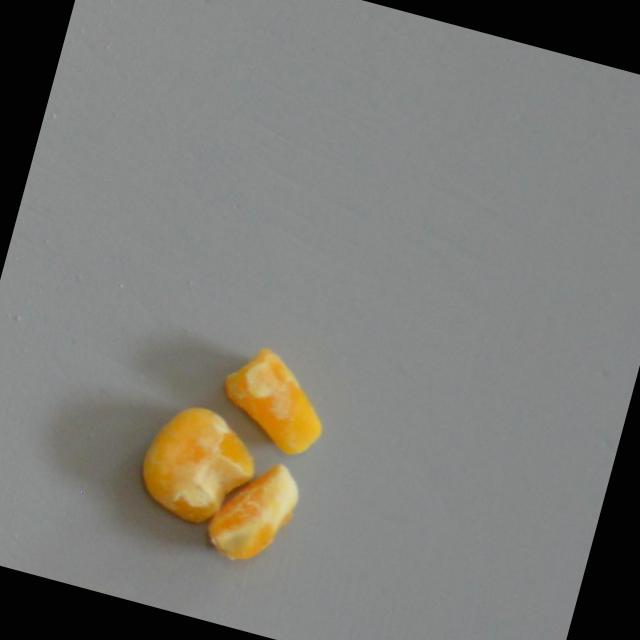pelicula: (126, 393, 267, 532), (209, 337, 339, 462), (197, 444, 308, 572)
